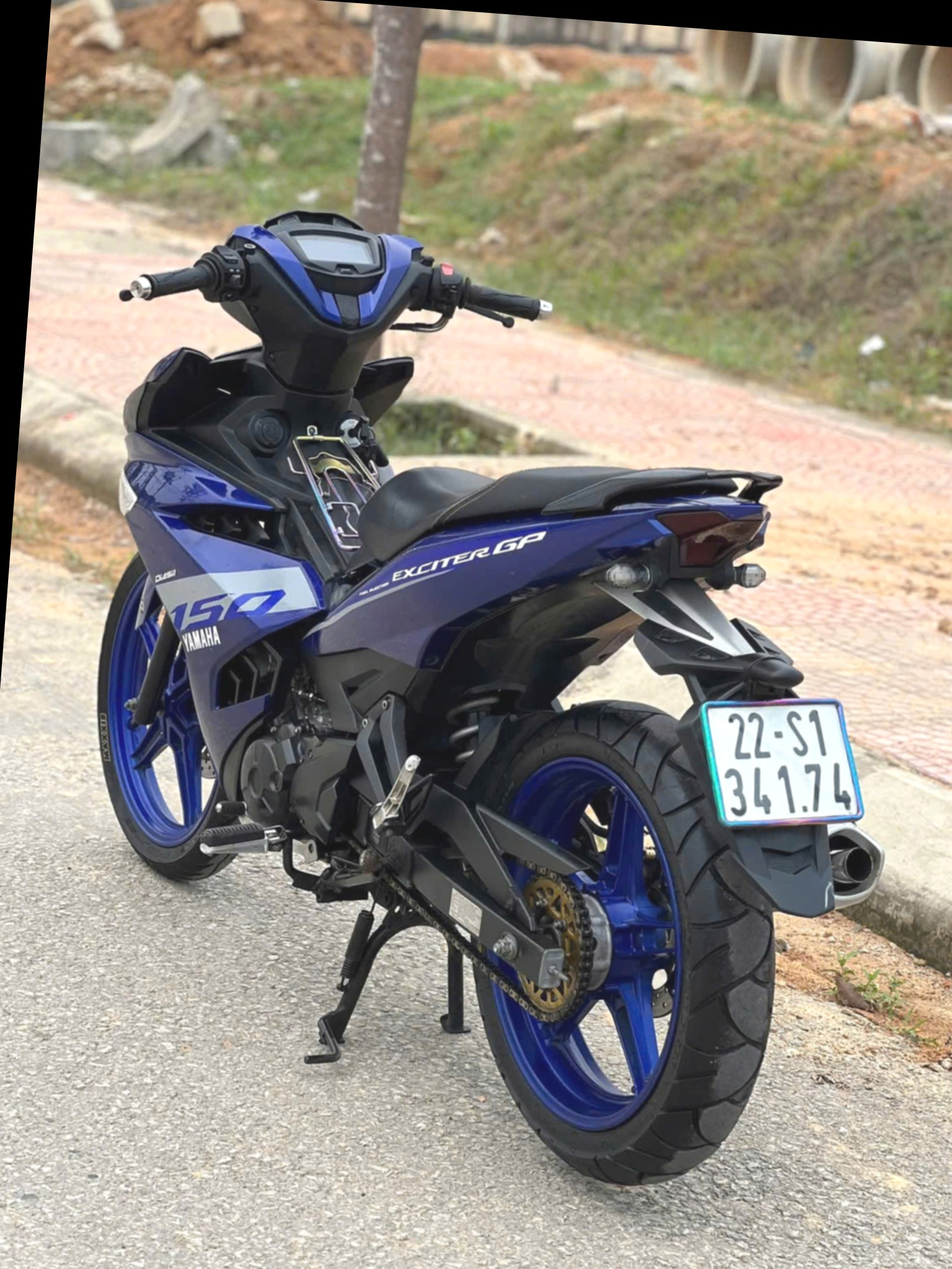Bien-so: (682, 615, 857, 744)
